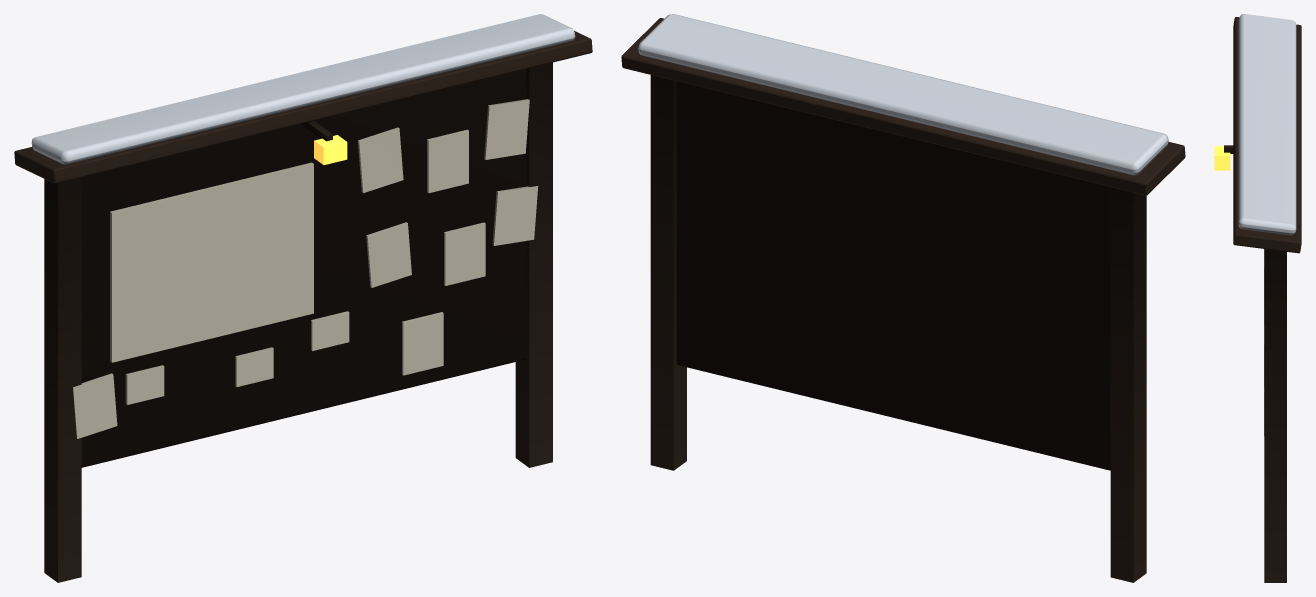
Rendered from missions_board.glb.
The picture shows the model from 3 angles, left to right: view 1: azimuth 30°, elevation 25°; view 2: azimuth 150°, elevation 25°; view 3: azimuth 270°, elevation 25°; orthographic projection. The views are drawn at different scales.
Parts seen in each view (by area): view 1: MissionsBoard; view 2: MissionsBoard; view 3: MissionsBoard.
Boxes of the visible parts, x1,y1,x2,y2 form: MissionsBoard: (14,14,592,582); MissionsBoard: (621,14,1185,582); MissionsBoard: (1214,14,1301,582).
Size of the model in its own units: 3.2 by 2.51 by 0.5421.
